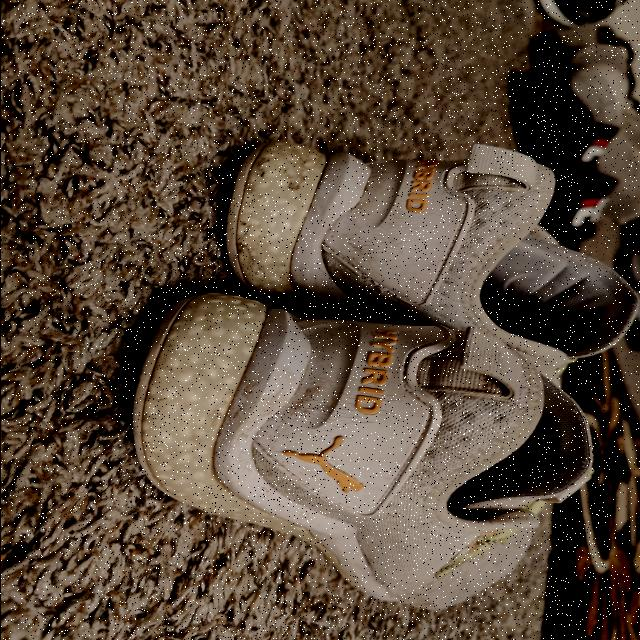white shoes: (152, 145, 552, 546)
